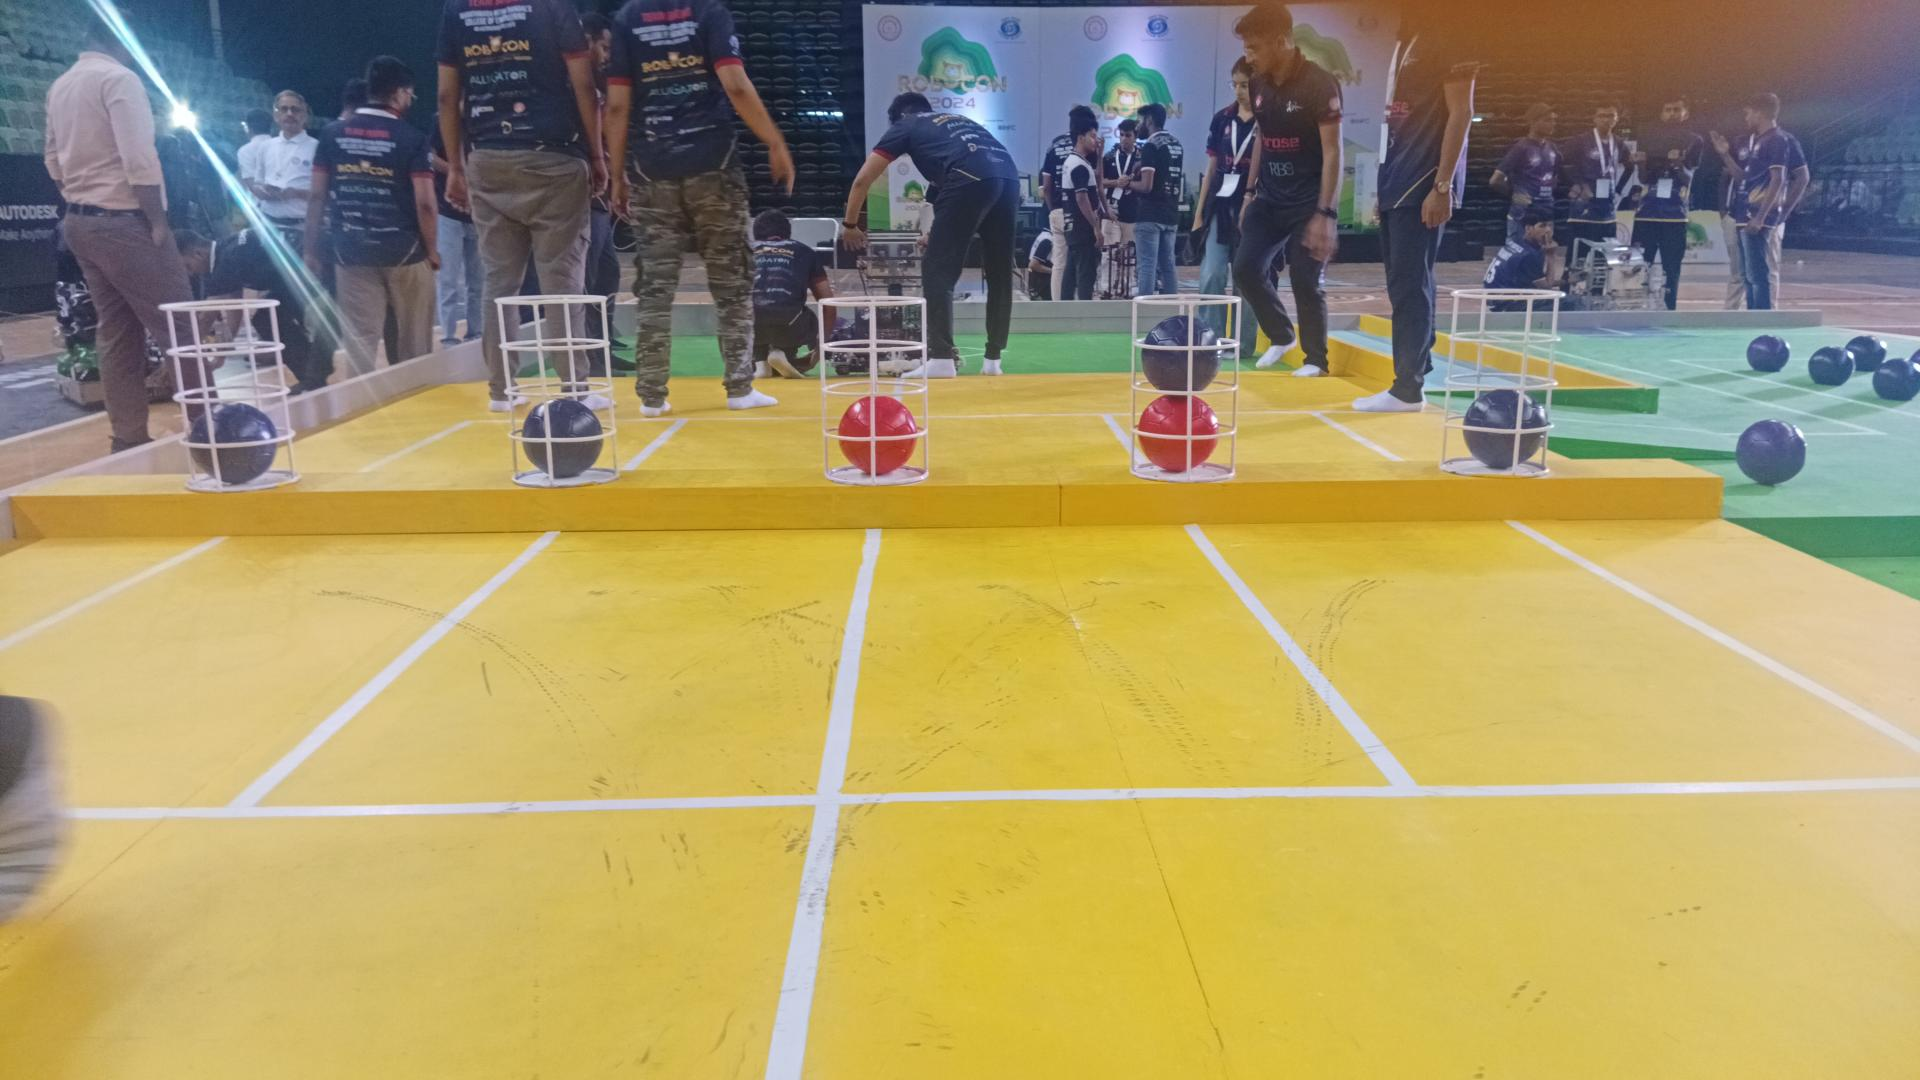dhoka: (186, 401, 276, 484), (1464, 390, 1551, 469), (518, 397, 601, 479), (1141, 315, 1222, 390)
laale: (1138, 394, 1217, 473), (839, 396, 918, 475)
